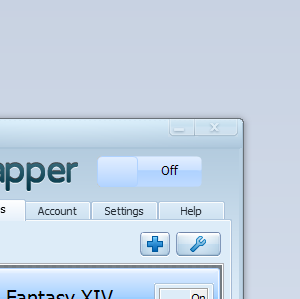close: (194, 116, 239, 138)
